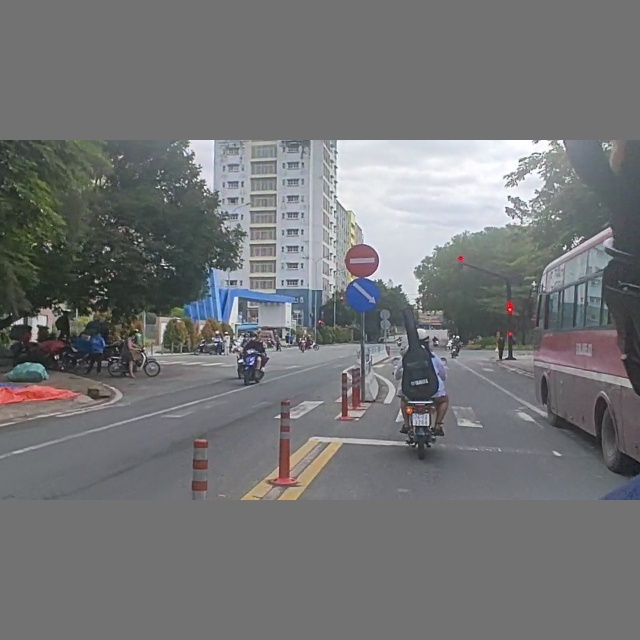P.102: (344, 242, 381, 277)
R.302a: (345, 278, 380, 313)
